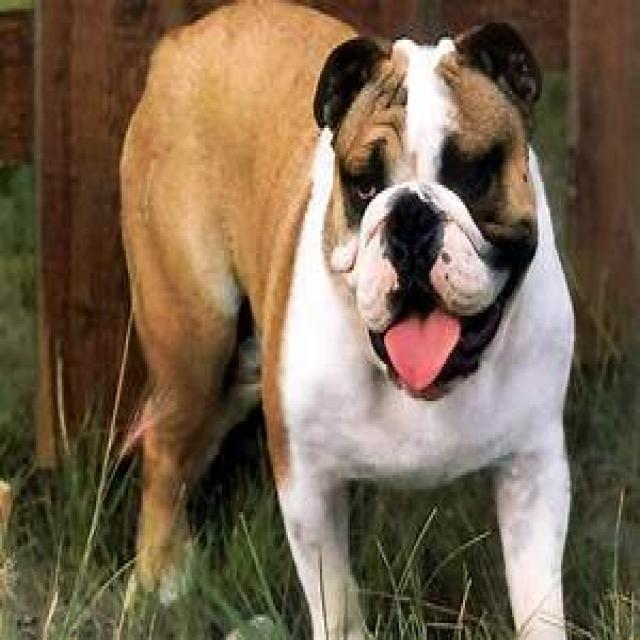dog: (120, 3, 574, 638)
